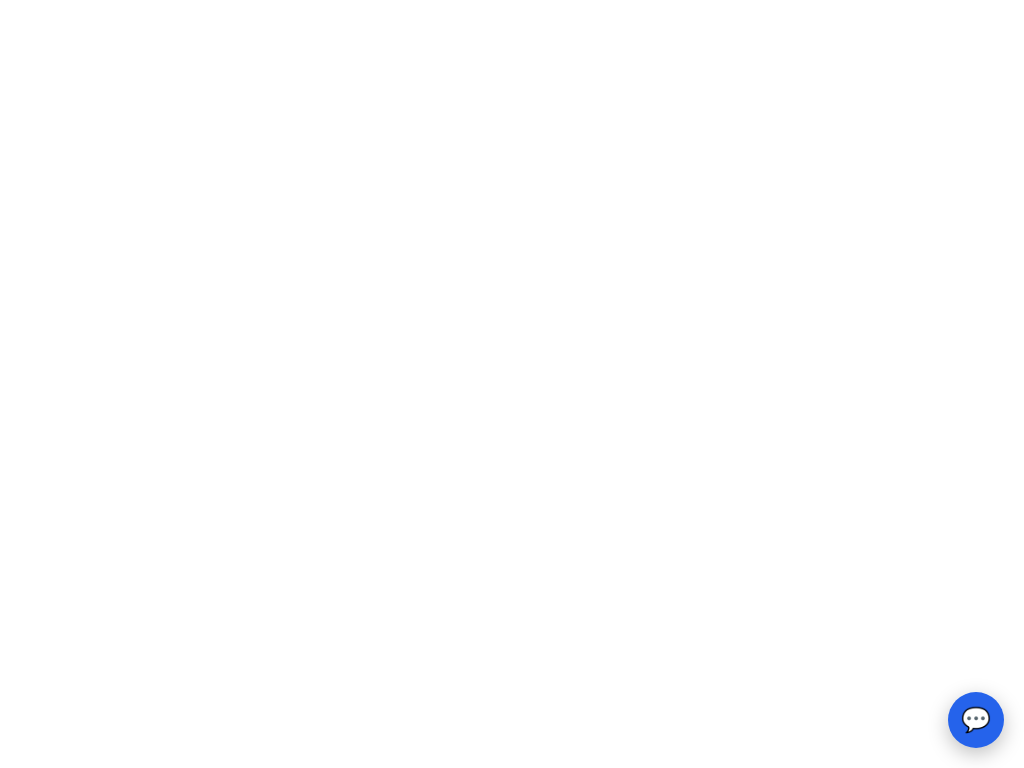
Test: ChatWidget accessibility › moves focus into the dialog on open
The image size is (1024, 768).
Click the button named "open support chat". click: (976, 720)
box: [948,692,1004,748]
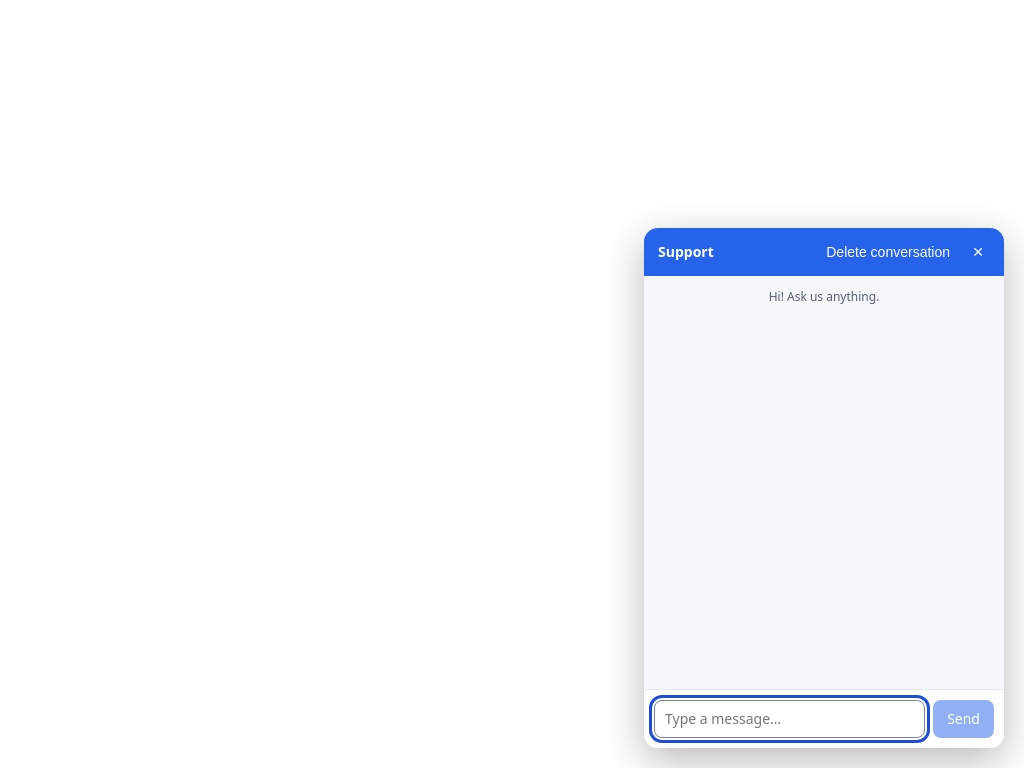
Expected: the field labelled "message" is enabled, [654,700,925,738]
